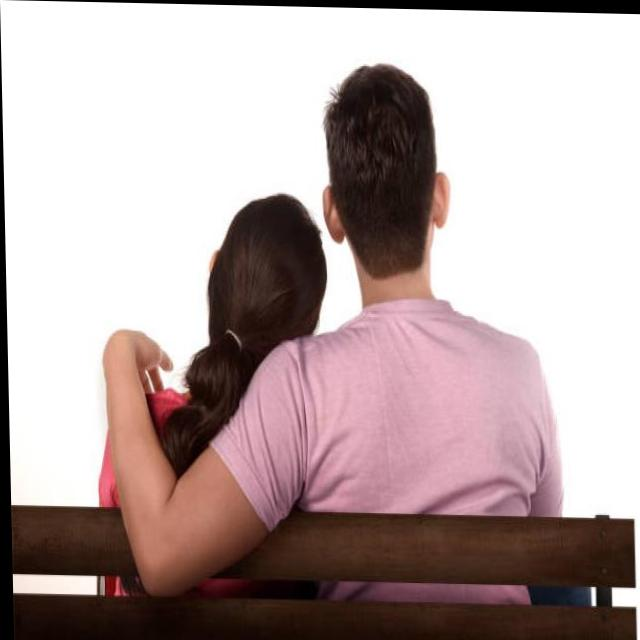no helmet: (303, 44, 463, 315), (196, 180, 336, 422)
